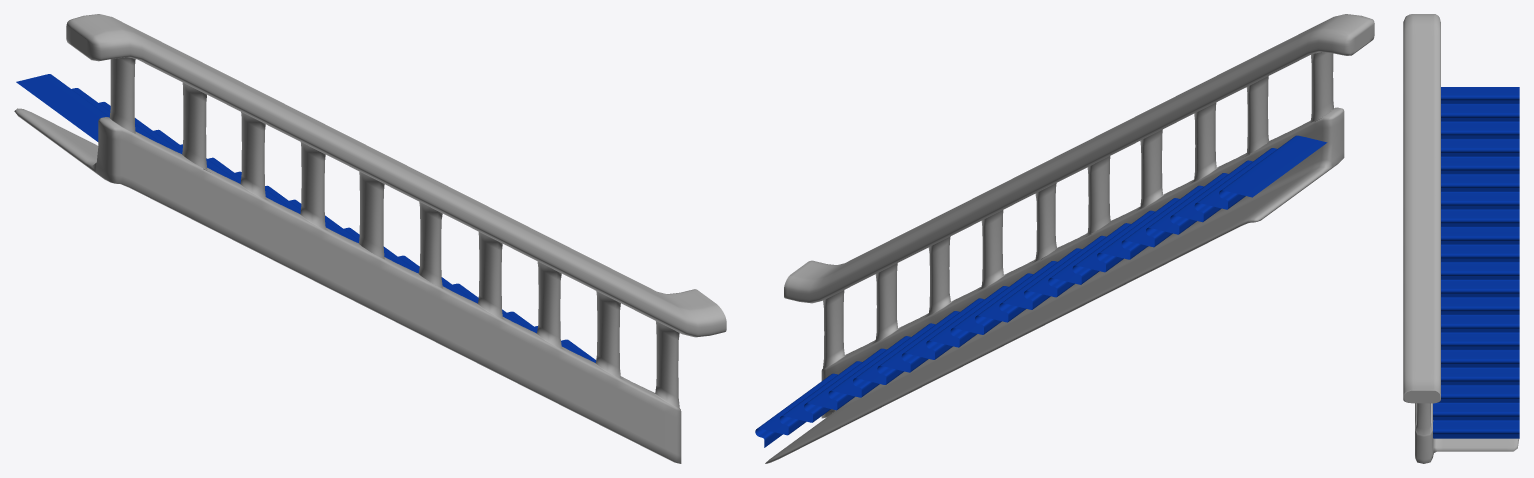
The model's file is Staircase_high.fbx.
3 views of the same model, side by side, from view 1: azimuth 30°, elevation 25°; view 2: azimuth 150°, elevation 25°; view 3: azimuth 270°, elevation 25° (orthographic). The views are drawn at different scales.
Parts seen in each view (by area): view 1: Stairs12; view 2: Stairs12; view 3: Stairs12.
Part boxes in pixels (x1,y1,x2,y2): Stairs12: (14, 14, 726, 463); Stairs12: (755, 14, 1374, 463); Stairs12: (1403, 14, 1519, 463).
Size of the model in its own units: 31.86 by 28.07 by 9.88.
